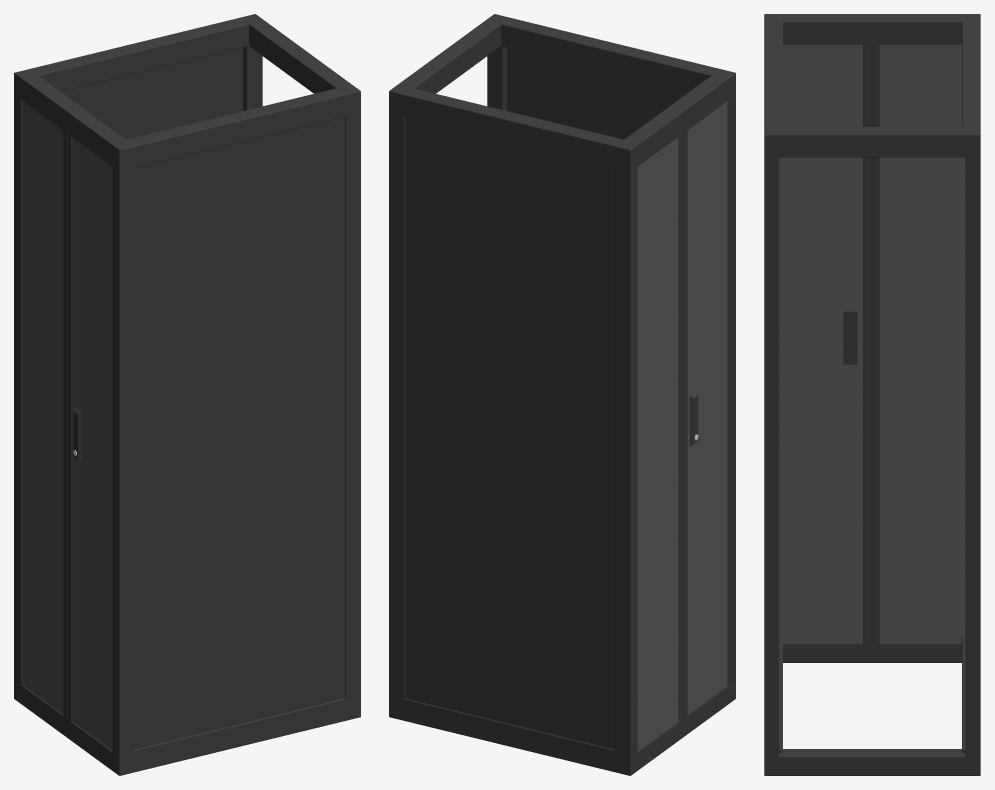
3 renders of one model, left to right at view 1: azimuth 30°, elevation 25°; view 2: azimuth 150°, elevation 25°; view 3: azimuth 270°, elevation 25°, orthographic. The views are drawn at different scales.
Parts seen in each view (by area): view 1: Plane006; view 2: Plane006; view 3: Plane006.
Boxes of the visible parts, <box> form: Plane006: <box>14,14,360,775</box>; Plane006: <box>389,14,735,775</box>; Plane006: <box>764,14,980,775</box>.
Size of the model in its own units: 816 by 1997 by 611.
Materials: 3 (1 with a texture image).
